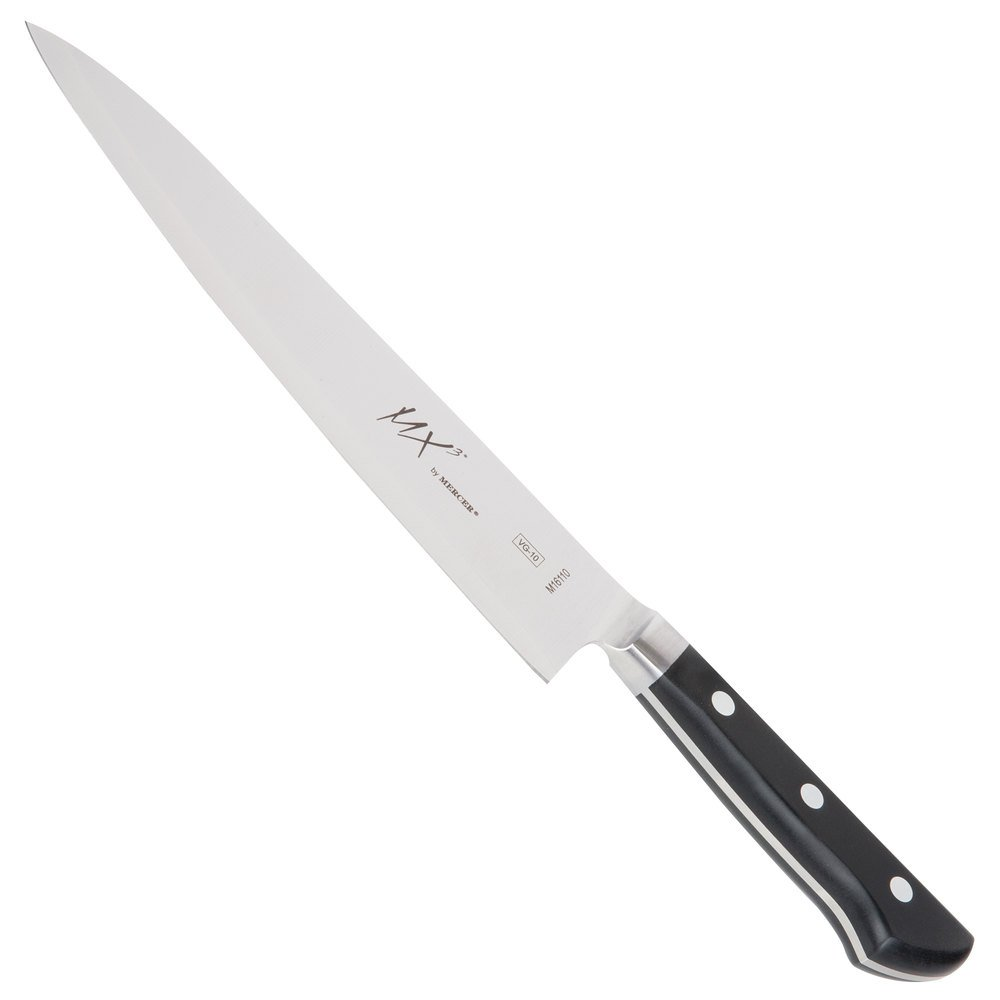knife: (17, 10, 980, 979)
